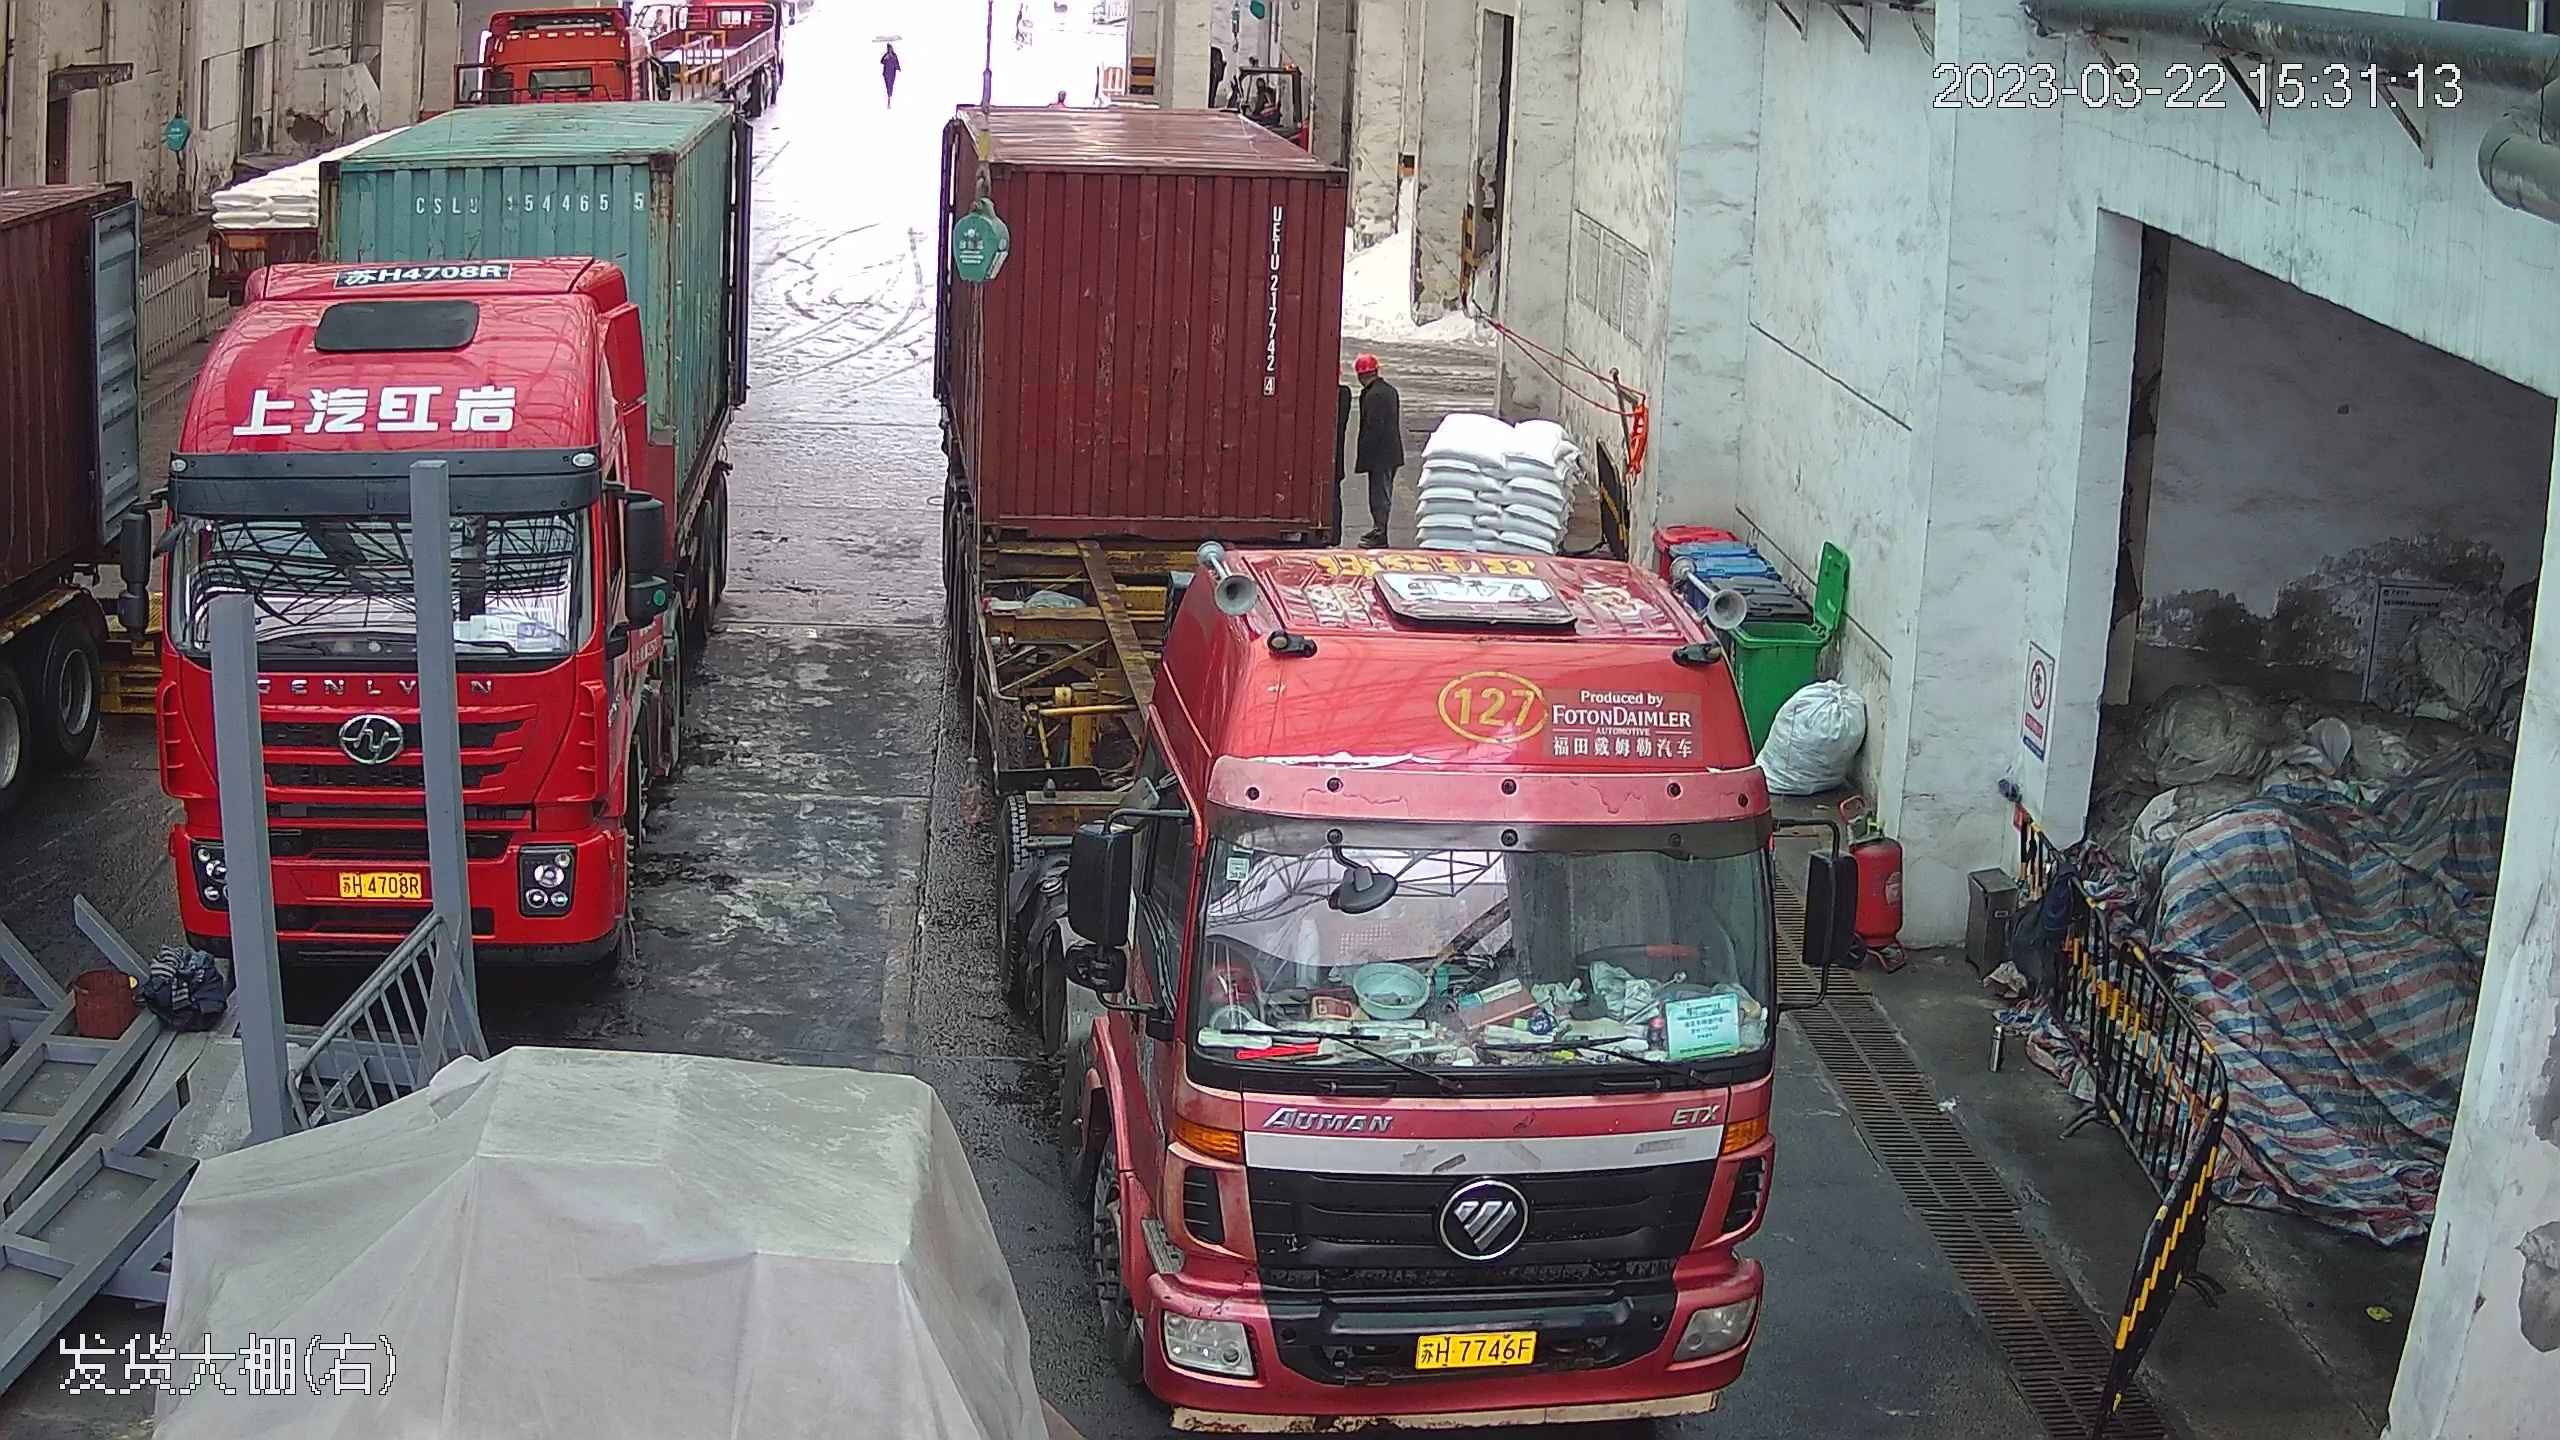head: (1345, 347, 1399, 411), (875, 34, 901, 65)
helmet: (1354, 347, 1386, 372)
people: (1335, 343, 1406, 549), (873, 32, 907, 112)
truck: (939, 19, 1815, 1433), (153, 15, 764, 968)
